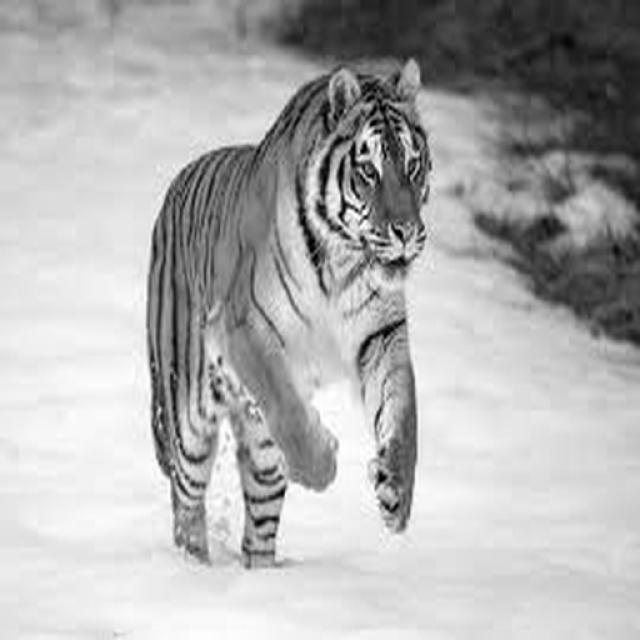Tiger: (144, 55, 434, 570)
